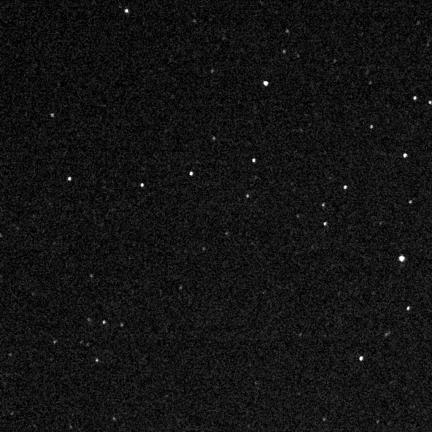blob: (399, 256, 404, 262), (252, 158, 256, 163), (370, 125, 374, 130), (125, 9, 129, 14), (189, 171, 193, 176), (286, 29, 290, 34), (90, 274, 94, 279), (68, 177, 72, 182), (246, 194, 250, 199), (264, 81, 268, 86), (322, 203, 326, 208), (54, 340, 58, 344), (51, 114, 55, 118), (95, 358, 99, 362), (403, 154, 407, 158), (283, 49, 286, 53), (414, 96, 417, 100), (360, 357, 363, 361), (409, 200, 412, 204), (211, 69, 214, 73), (103, 320, 106, 324), (212, 136, 215, 140), (407, 306, 410, 310), (324, 222, 327, 226), (120, 323, 123, 327), (344, 186, 347, 189), (141, 183, 143, 187), (429, 100, 431, 104)
